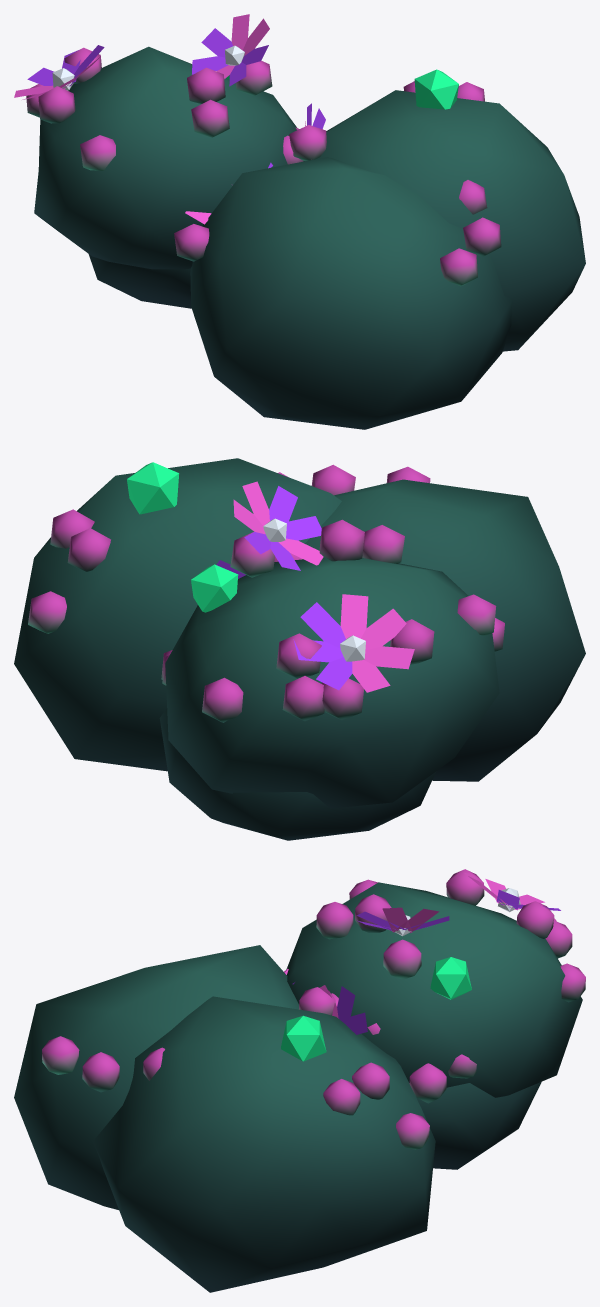
The model's file is SM_PandoraTree_Bush_Flowering.fbx.
3 views of the same model, one above another, from view 1: azimuth 30°, elevation 25°; view 2: azimuth 150°, elevation 25°; view 3: azimuth 270°, elevation 25° (orthographic). The views are drawn at different scales.
Parts seen in each view (by area): view 1: SM_PandoraTree_Bush_Flowering; view 2: SM_PandoraTree_Bush_Flowering; view 3: SM_PandoraTree_Bush_Flowering.
Boxes of the visible parts, <box> form: SM_PandoraTree_Bush_Flowering: <box>14,14,585,429</box>; SM_PandoraTree_Bush_Flowering: <box>14,458,585,840</box>; SM_PandoraTree_Bush_Flowering: <box>14,869,585,1292</box>.
Size of what is drawn, in the model's own units: 2.31 by 1.59 by 2.6.
